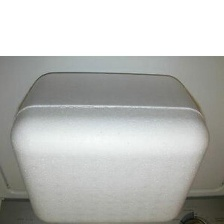foam_box: (6, 66, 213, 224)
